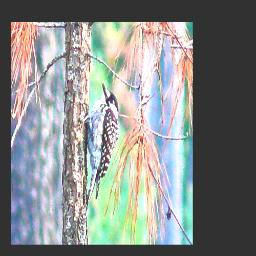Woodpecker: (74, 77, 125, 214)
